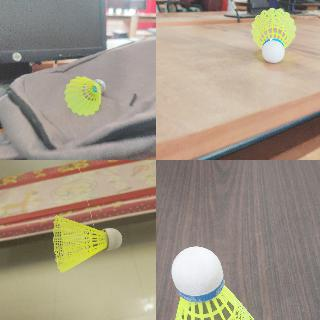shuttlecock: (171, 246, 258, 319), (52, 215, 121, 273), (250, 8, 296, 62), (64, 76, 104, 114)
